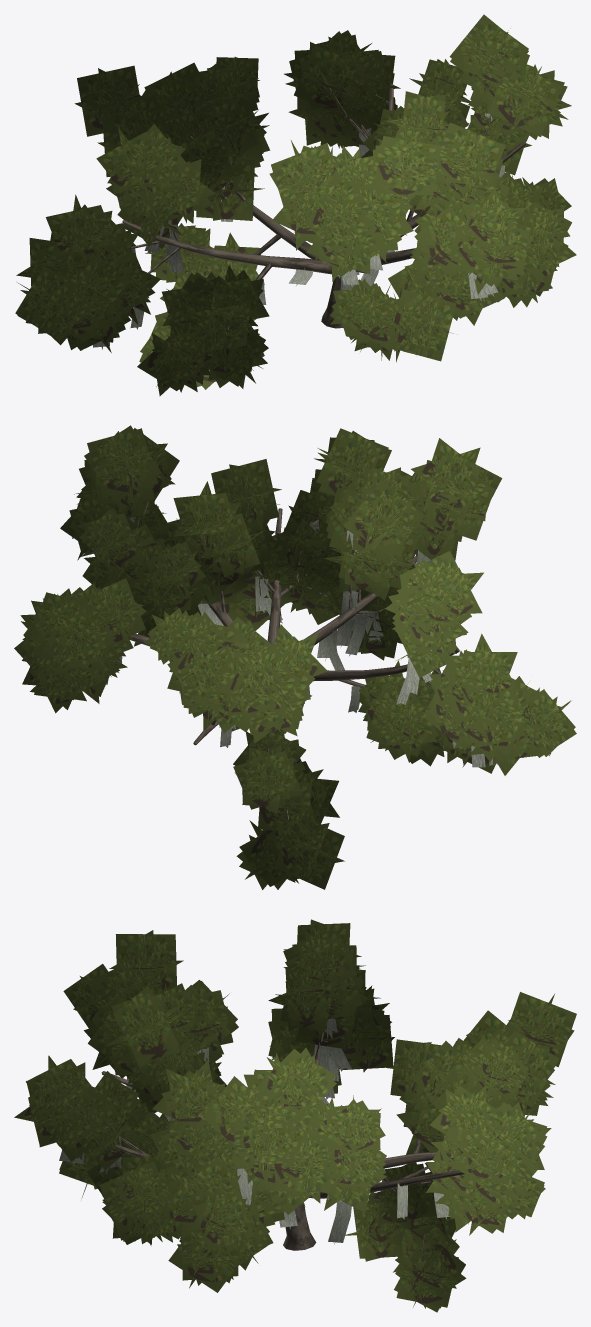
Rendered from veg_live_oak_a.fbx.
3 renders of one model, top to bottom at view 1: azimuth 30°, elevation 25°; view 2: azimuth 150°, elevation 25°; view 3: azimuth 270°, elevation 25°, orthographic.
Visible parts, largest first — view 1: veg_live_oak_a_LOD0; view 2: veg_live_oak_a_LOD0; view 3: veg_live_oak_a_LOD0.
Boxes of the visible parts, x1,y1,x2,y2 form: veg_live_oak_a_LOD0: (15,14,576,396); veg_live_oak_a_LOD0: (14,425,576,889); veg_live_oak_a_LOD0: (14,919,576,1312).
Size of what is drawn, in the model's own units: 27.13 by 18.03 by 24.86.
2 materials, 2 textured.
